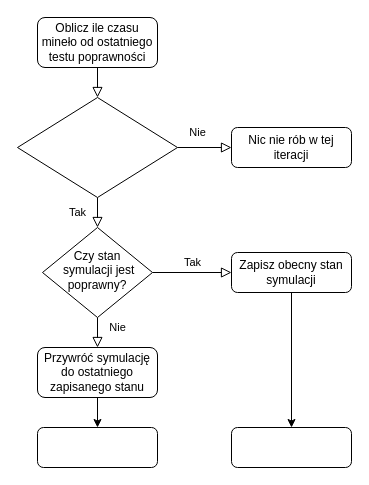
Image size: 369x485. Some labels were removed from this diagram. Each missing label, with the centre of its shape:
Czas większy niż ten ustawiony przez użytkownika?: the point at 97,147
Zmniejsz krok czasowy: the point at 97,447
Zwiększ krok czasowy: the point at 291,447
